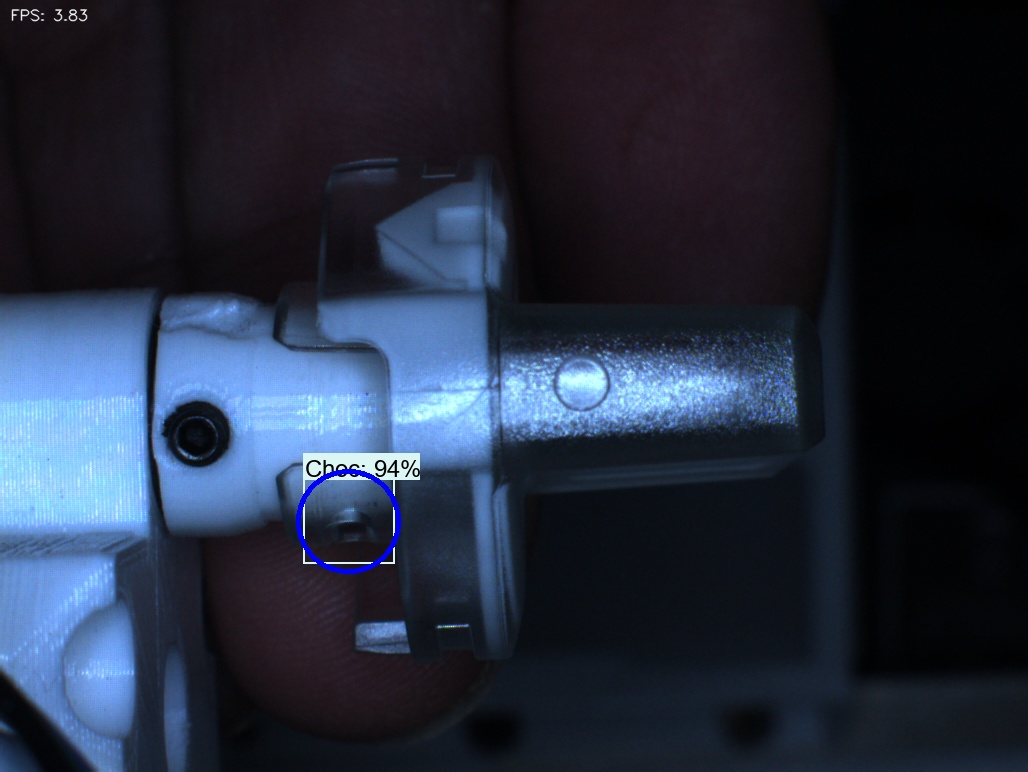DentOk: (355, 189, 430, 295)
